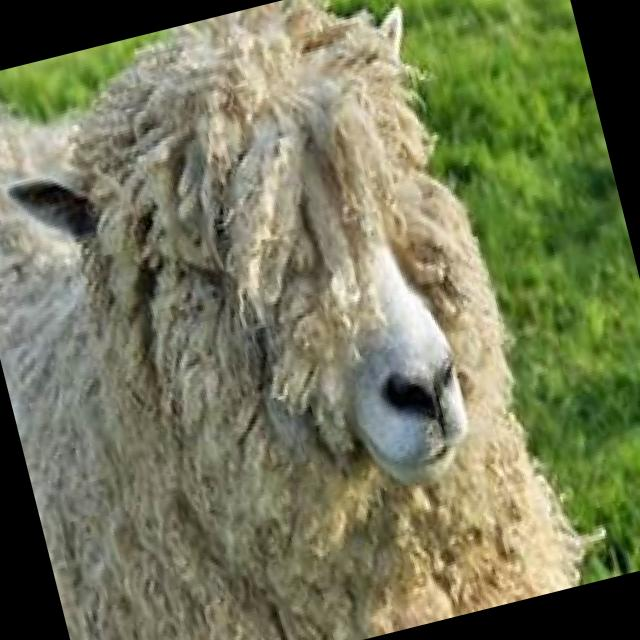animal: (0, 0, 580, 640)
